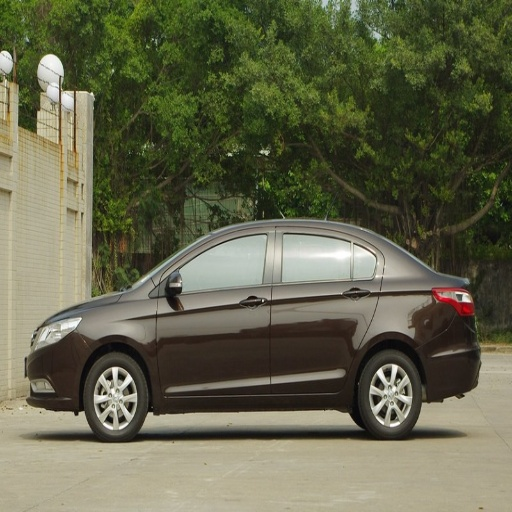back_left_door: (271, 227, 379, 392)
front_left_door: (156, 228, 274, 395)
